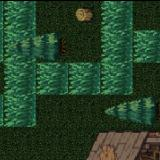Obstacle: (36, 126, 160, 160), (36, 28, 68, 62), (68, 0, 100, 28), (133, 93, 160, 126)
Slow: (4, 0, 35, 126), (34, 62, 134, 94), (101, 29, 160, 62), (101, 0, 133, 29)
